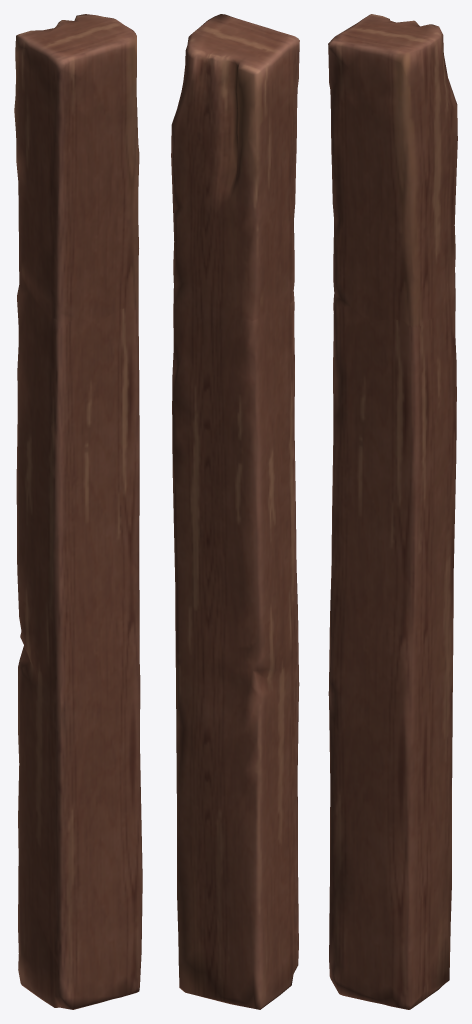
The model's file is SM_Beams_04.fbx.
3 views of the same model, side by side, from view 1: azimuth 30°, elevation 25°; view 2: azimuth 150°, elevation 25°; view 3: azimuth 330°, elevation 25° (orthographic).
Parts seen in each view (by area): view 1: SM_Beams_04_LOD0; view 2: SM_Beams_04_LOD0; view 3: SM_Beams_04_LOD0.
Boxes of the visible parts, x1,y1,x2,y2 form: SM_Beams_04_LOD0: [14, 14, 142, 1009]; SM_Beams_04_LOD0: [171, 14, 299, 1009]; SM_Beams_04_LOD0: [328, 14, 457, 1009].
Bounding box in the file's own units: 24.22 × 22.09 × 249.
1 material, 1 textured.
